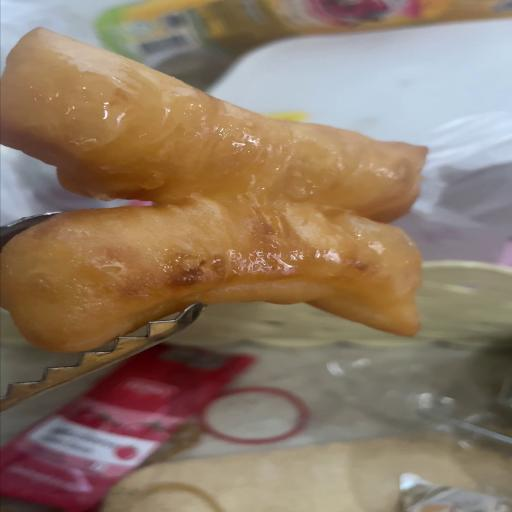street_golden_good: (0, 28, 427, 351)
